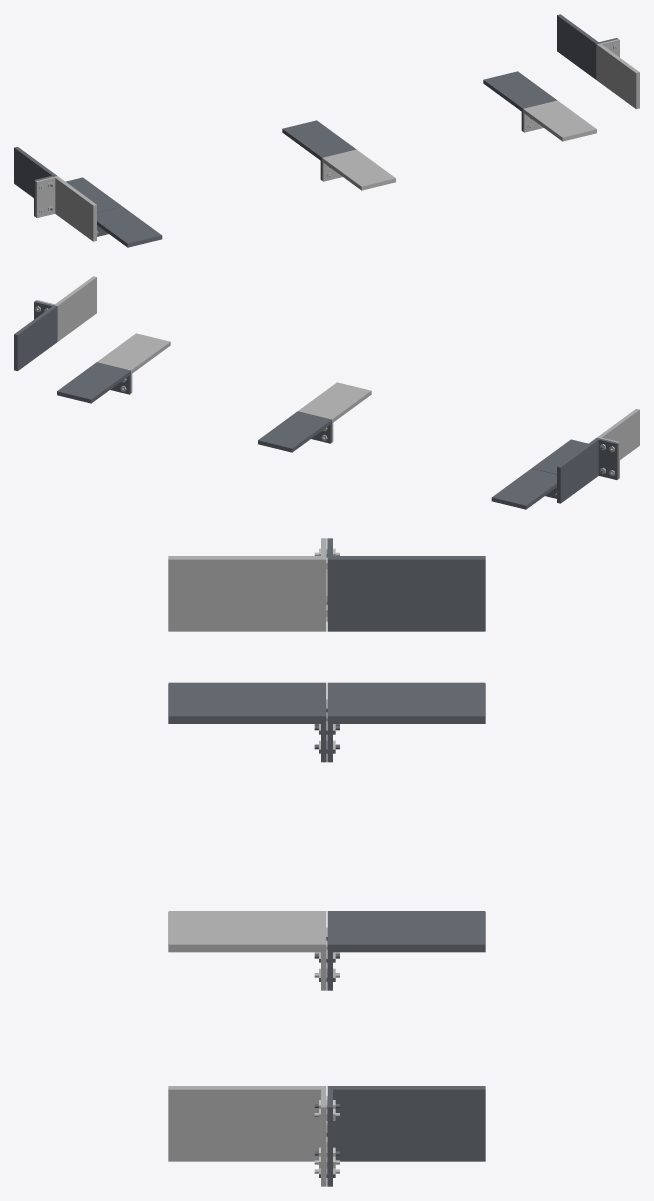
File: Flatwalk Seam FBX.fbx
The picture shows the model from 3 angles, top to bottom: view 1: azimuth 30°, elevation 25°; view 2: azimuth 150°, elevation 25°; view 3: azimuth 270°, elevation 25°; orthographic projection. The views are drawn at different scales.
Parts seen in each view (by area): view 1: Seam_Trig; view 2: Seam_Trig; view 3: Seam_Trig.
Boxes of the visible parts, x1,y1,x2,y2 form: Seam_Trig: (14, 14, 639, 247); Seam_Trig: (14, 276, 639, 509); Seam_Trig: (168, 538, 485, 1186).
Bounding box in the file's own units: 176 × 20.08 × 41.61.
